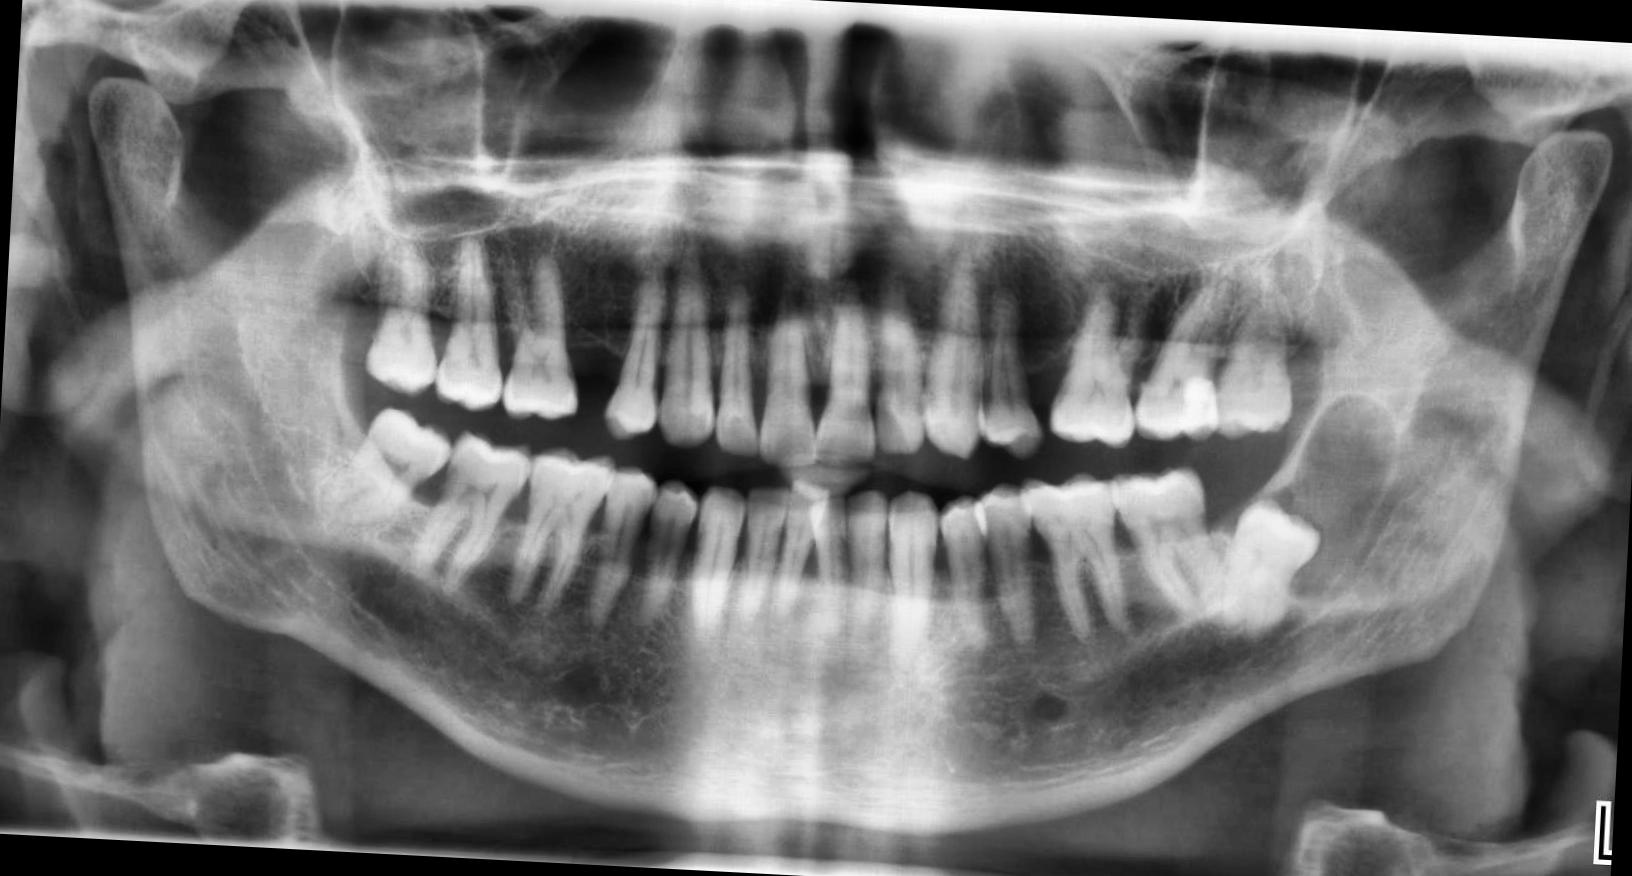dentigerous: (1228, 386, 1403, 608)
